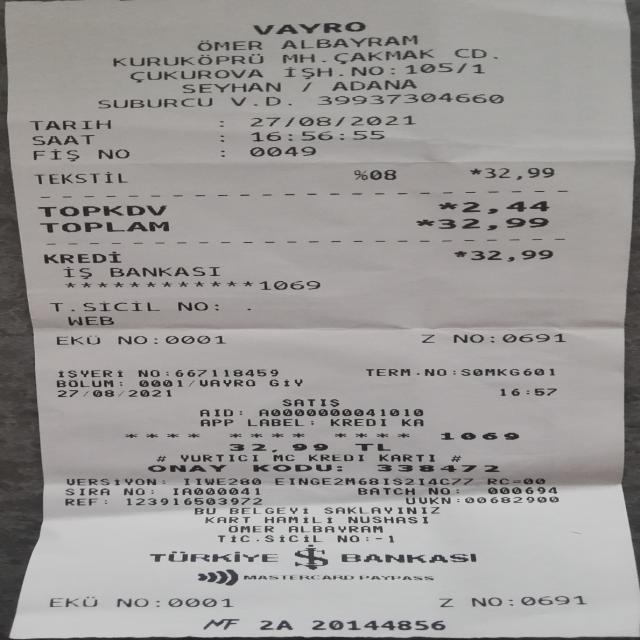text: (277, 34, 420, 49), (272, 476, 470, 486), (314, 93, 503, 103), (108, 54, 263, 65), (247, 116, 414, 126), (311, 619, 444, 631), (150, 550, 276, 562), (126, 69, 263, 80), (364, 368, 552, 376), (250, 21, 364, 34), (258, 408, 422, 417), (436, 217, 547, 230), (35, 205, 166, 216), (95, 96, 212, 108), (107, 266, 219, 278), (49, 300, 161, 312), (374, 462, 496, 473), (36, 221, 169, 231), (341, 553, 474, 563), (328, 50, 433, 62), (247, 131, 384, 140), (180, 82, 280, 93), (462, 200, 546, 213), (124, 497, 260, 505), (328, 79, 417, 91), (32, 172, 125, 183), (280, 66, 382, 76), (28, 118, 112, 130), (480, 166, 552, 180), (470, 249, 553, 261), (172, 368, 276, 377), (323, 506, 438, 514), (406, 62, 482, 74), (64, 476, 154, 486), (58, 389, 170, 397), (212, 534, 324, 542), (42, 252, 121, 263), (146, 462, 224, 473), (251, 462, 329, 473), (440, 430, 517, 441), (169, 486, 261, 495), (246, 145, 316, 156), (180, 454, 256, 464), (287, 525, 380, 533), (194, 40, 261, 51), (464, 496, 556, 504), (30, 134, 94, 145), (182, 476, 260, 485), (228, 95, 290, 106), (165, 597, 233, 607), (48, 594, 96, 608), (164, 334, 225, 345), (517, 595, 584, 605), (242, 574, 352, 580), (260, 280, 324, 290), (346, 516, 426, 524), (30, 148, 79, 161), (500, 332, 563, 342), (228, 506, 306, 514), (245, 417, 303, 427), (330, 417, 386, 427), (486, 486, 556, 494), (307, 454, 362, 464), (378, 454, 433, 464), (280, 398, 338, 407), (356, 486, 414, 495), (264, 516, 329, 524), (66, 315, 112, 326), (198, 378, 254, 387), (278, 51, 314, 64), (54, 380, 112, 388), (498, 388, 555, 396), (358, 574, 432, 580), (137, 378, 184, 387), (451, 48, 483, 61), (53, 335, 99, 344), (94, 148, 128, 160), (54, 370, 122, 376), (402, 496, 452, 504), (469, 596, 502, 608), (204, 618, 237, 630), (64, 487, 107, 496), (260, 618, 292, 630), (226, 442, 264, 452), (367, 167, 394, 181), (62, 266, 90, 279), (290, 442, 326, 452), (354, 442, 390, 452), (116, 596, 146, 608), (205, 516, 249, 524), (227, 525, 271, 533), (177, 300, 206, 312), (199, 417, 232, 427), (451, 333, 482, 343), (62, 497, 96, 506), (117, 334, 144, 345), (268, 378, 300, 387), (199, 408, 231, 417), (439, 200, 457, 213), (400, 417, 422, 427), (414, 218, 432, 230), (137, 368, 158, 378), (272, 454, 293, 464), (384, 63, 400, 76), (485, 476, 508, 485), (521, 476, 543, 485), (424, 486, 446, 495), (352, 168, 366, 182), (483, 47, 496, 61), (469, 166, 482, 180), (298, 80, 313, 92), (336, 534, 358, 542), (122, 487, 143, 495), (438, 597, 453, 608), (193, 506, 213, 514), (312, 51, 324, 64), (374, 534, 392, 542), (450, 250, 468, 258), (418, 334, 432, 344), (450, 454, 460, 464), (216, 117, 223, 129), (217, 146, 224, 158), (156, 454, 164, 464), (505, 596, 513, 606), (188, 378, 196, 387), (217, 134, 226, 142), (336, 462, 342, 473), (455, 496, 463, 504), (213, 302, 219, 312), (488, 333, 493, 343), (164, 368, 168, 378), (270, 442, 274, 452), (162, 476, 166, 485), (238, 408, 241, 417), (454, 486, 457, 495), (154, 596, 156, 608), (152, 334, 154, 345), (118, 378, 120, 388), (364, 534, 366, 542), (310, 417, 311, 427), (150, 487, 151, 496)
